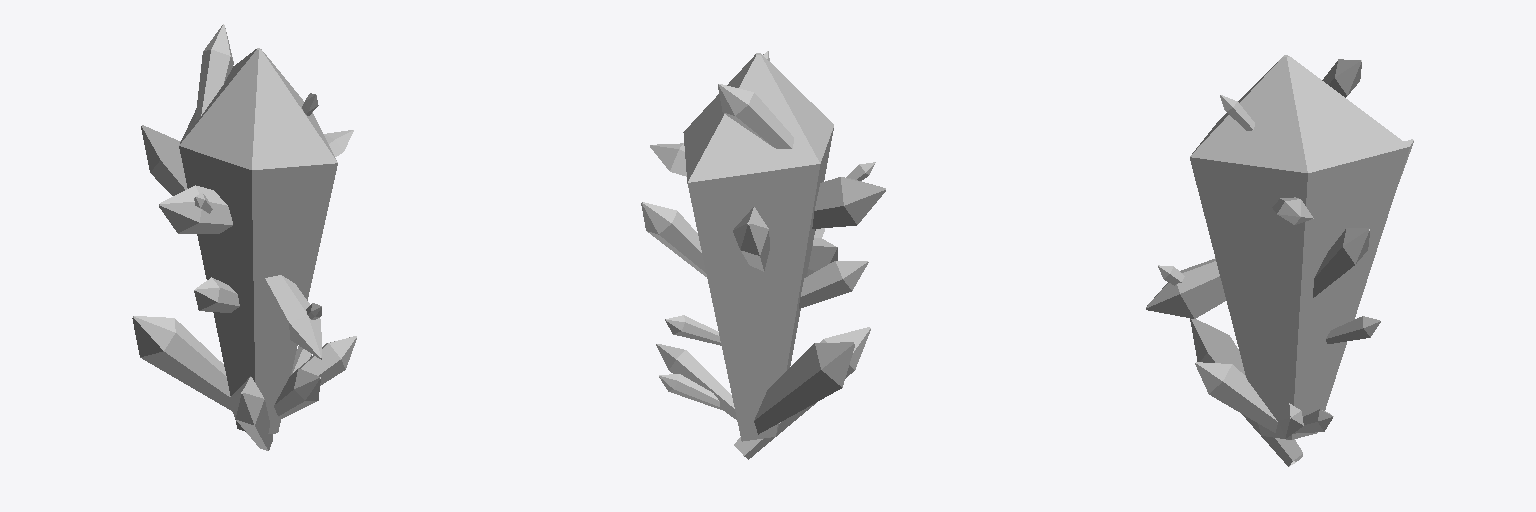
The model's file is Cystal3.obj.
The picture shows the model from 3 angles: view 1: azimuth 30°, elevation 25°; view 2: azimuth 150°, elevation 25°; view 3: azimuth 270°, elevation 25°; orthographic projection.
Visible parts, largest first — view 1: Circle; view 2: Circle; view 3: Circle.
Boxes of the visible parts, box(x1,y1,x2,y2) form: Circle: box(132, 24, 356, 450); Circle: box(641, 51, 885, 459); Circle: box(1146, 55, 1413, 466).
Size of the model in its own units: 3.61 by 6.49 by 3.9.